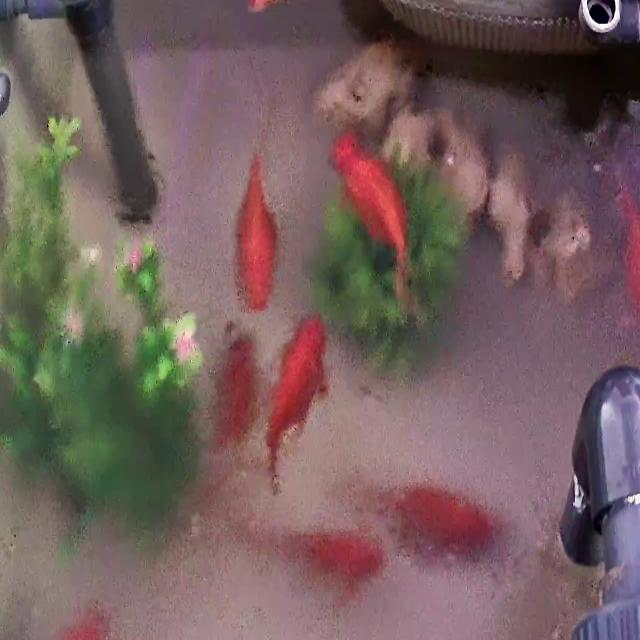fish: (332, 126, 410, 305), (264, 314, 326, 488), (388, 486, 500, 558), (234, 152, 280, 314), (282, 528, 380, 594), (214, 327, 257, 453), (613, 183, 640, 340), (13, 602, 112, 640)
